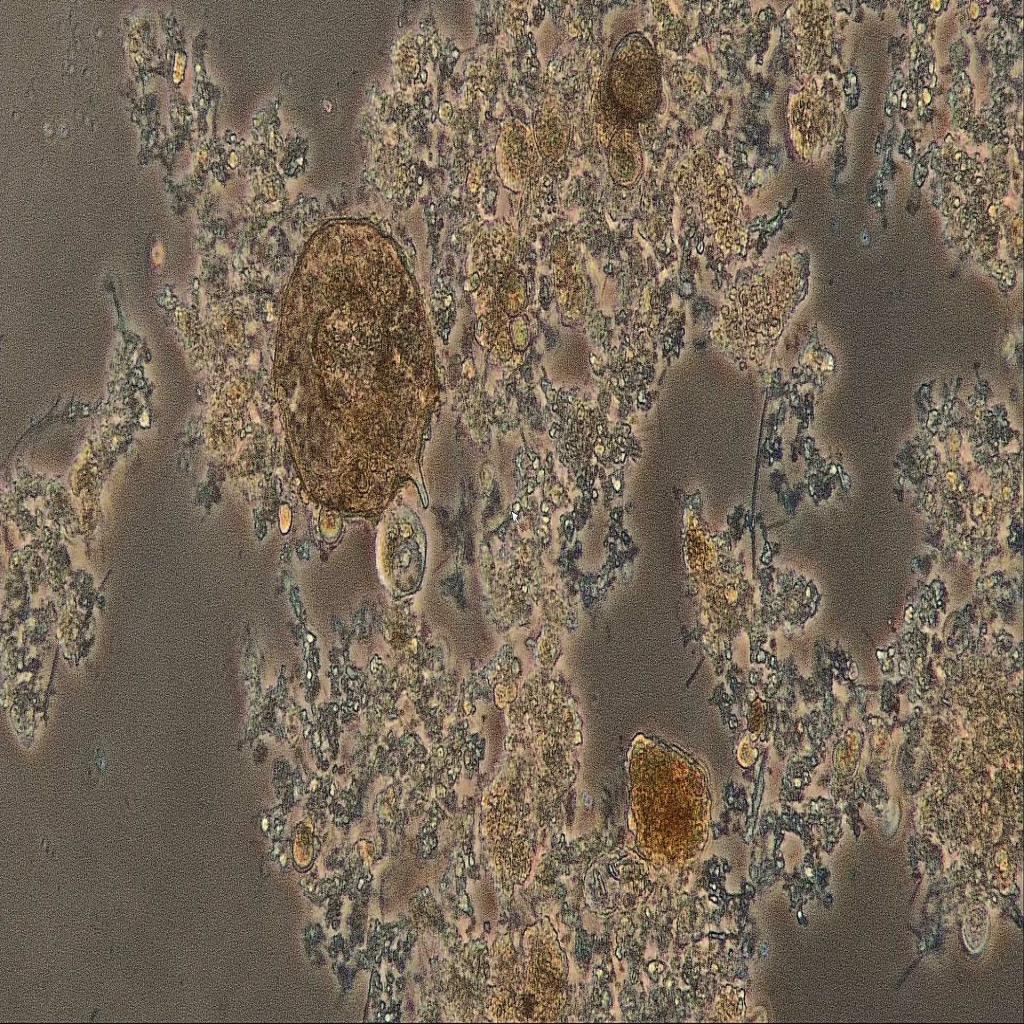Arcella: (271, 208, 448, 520)
